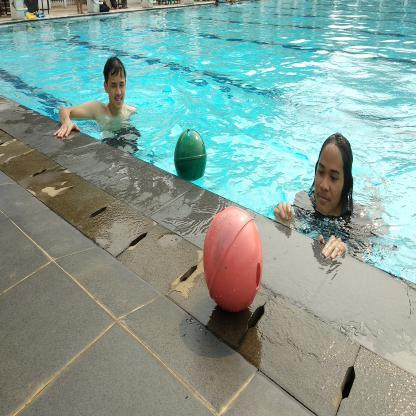green_buoy: (173, 126, 210, 188)
red_buoy: (201, 205, 263, 312)
